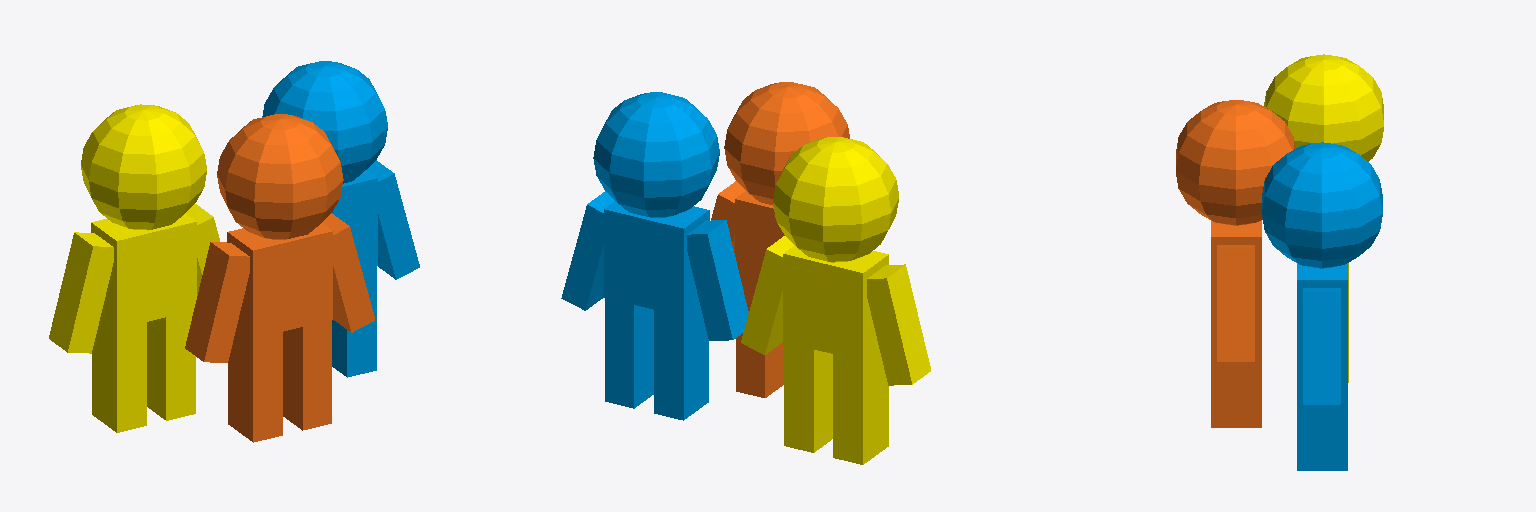
The picture shows the model from 3 angles: view 1: azimuth 30°, elevation 25°; view 2: azimuth 150°, elevation 25°; view 3: azimuth 270°, elevation 25°; orthographic projection.
Parts seen in each view (by area): view 1: group4 group2 pSphere1, group4 group3 pSphere1, group4 pCube1 group3, group4 pCube1 group2, group1 group4 pSphere1, group4 group2 pCube2, group4 group3 pCube2, group4 group2 pCube5, group4 group3 pCube5, group4 group2 pCube3, group4 group3 pCube3, group4 group2 pCube4 (+4 smaller); view 2: group1 group4 pSphere1, group4 group3 pSphere1, group4 pCube1 group3, group4 group2 pSphere1, pCube1 group1 group4, group1 group4 pCube2, group4 group3 pCube2, group4 group3 pCube5, group1 group4 pCube5, group1 group4 pCube3, group4 group3 pCube3, group1 group4 pCube4 (+4 smaller); view 3: group1 group4 pSphere1, group4 group2 pSphere1, group4 group3 pSphere1, group1 group4 pCube4, group4 group2 pCube4, group1 group4 pCube3, group4 group2 pCube3, pCube1 group1 group4, group4 pCube1 group2.
Boxes of the visible parts, x1=… form: group4 group2 pSphere1: x1=217, y1=114, x2=343, y2=239; group4 group3 pSphere1: x1=81, y1=104, x2=206, y2=230; group4 pCube1 group3: x1=91, y1=213, x2=196, y2=328; group4 pCube1 group2: x1=227, y1=223, x2=332, y2=338; group1 group4 pSphere1: x1=262, y1=61, x2=387, y2=183; group4 group2 pCube2: x1=228, y1=328, x2=282, y2=442; group4 group3 pCube2: x1=92, y1=317, x2=146, y2=432; group4 group2 pCube5: x1=185, y1=242, x2=249, y2=362; group4 group3 pCube5: x1=49, y1=232, x2=113, y2=353; group4 group2 pCube3: x1=283, y1=320, x2=331, y2=430; group4 group3 pCube3: x1=147, y1=311, x2=195, y2=420; group4 group2 pCube4: x1=322, y1=213, x2=374, y2=332; group1 group4 pSphere1: x1=593, y1=92, x2=719, y2=217; group4 group3 pSphere1: x1=773, y1=137, x2=898, y2=262; group4 pCube1 group3: x1=783, y1=246, x2=888, y2=360; group4 group2 pSphere1: x1=724, y1=82, x2=849, y2=204; pCube1 group1 group4: x1=604, y1=201, x2=709, y2=316; group1 group4 pCube2: x1=654, y1=306, x2=708, y2=420; group4 group3 pCube2: x1=833, y1=350, x2=888, y2=464; group4 group3 pCube5: x1=867, y1=264, x2=930, y2=385; group1 group4 pCube5: x1=687, y1=220, x2=748, y2=340; group1 group4 pCube3: x1=605, y1=295, x2=653, y2=408; group4 group3 pCube3: x1=784, y1=342, x2=832, y2=452; group1 group4 pCube4: x1=561, y1=191, x2=614, y2=310; group1 group4 pSphere1: x1=1262, y1=142, x2=1382, y2=268; group4 group2 pSphere1: x1=1176, y1=100, x2=1295, y2=225; group4 group3 pSphere1: x1=1264, y1=54, x2=1383, y2=161; group1 group4 pCube4: x1=1303, y1=288, x2=1340, y2=404; group4 group2 pCube4: x1=1217, y1=245, x2=1254, y2=361; group1 group4 pCube3: x1=1297, y1=368, x2=1347, y2=470; group4 group2 pCube3: x1=1211, y1=325, x2=1261, y2=427; pCube1 group1 group4: x1=1297, y1=263, x2=1347, y2=367; group4 pCube1 group2: x1=1211, y1=220, x2=1261, y2=324.
Size of the model in its own units: 1.52 by 1.26 by 0.7822.
Materials: 3 (3 with a texture image).